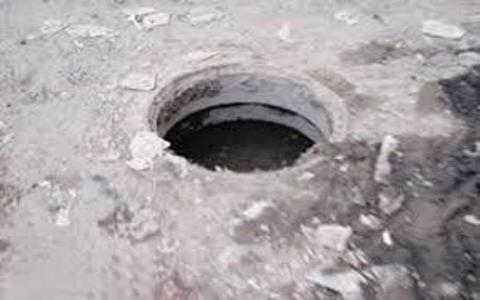open manhole: (109, 36, 383, 200)
